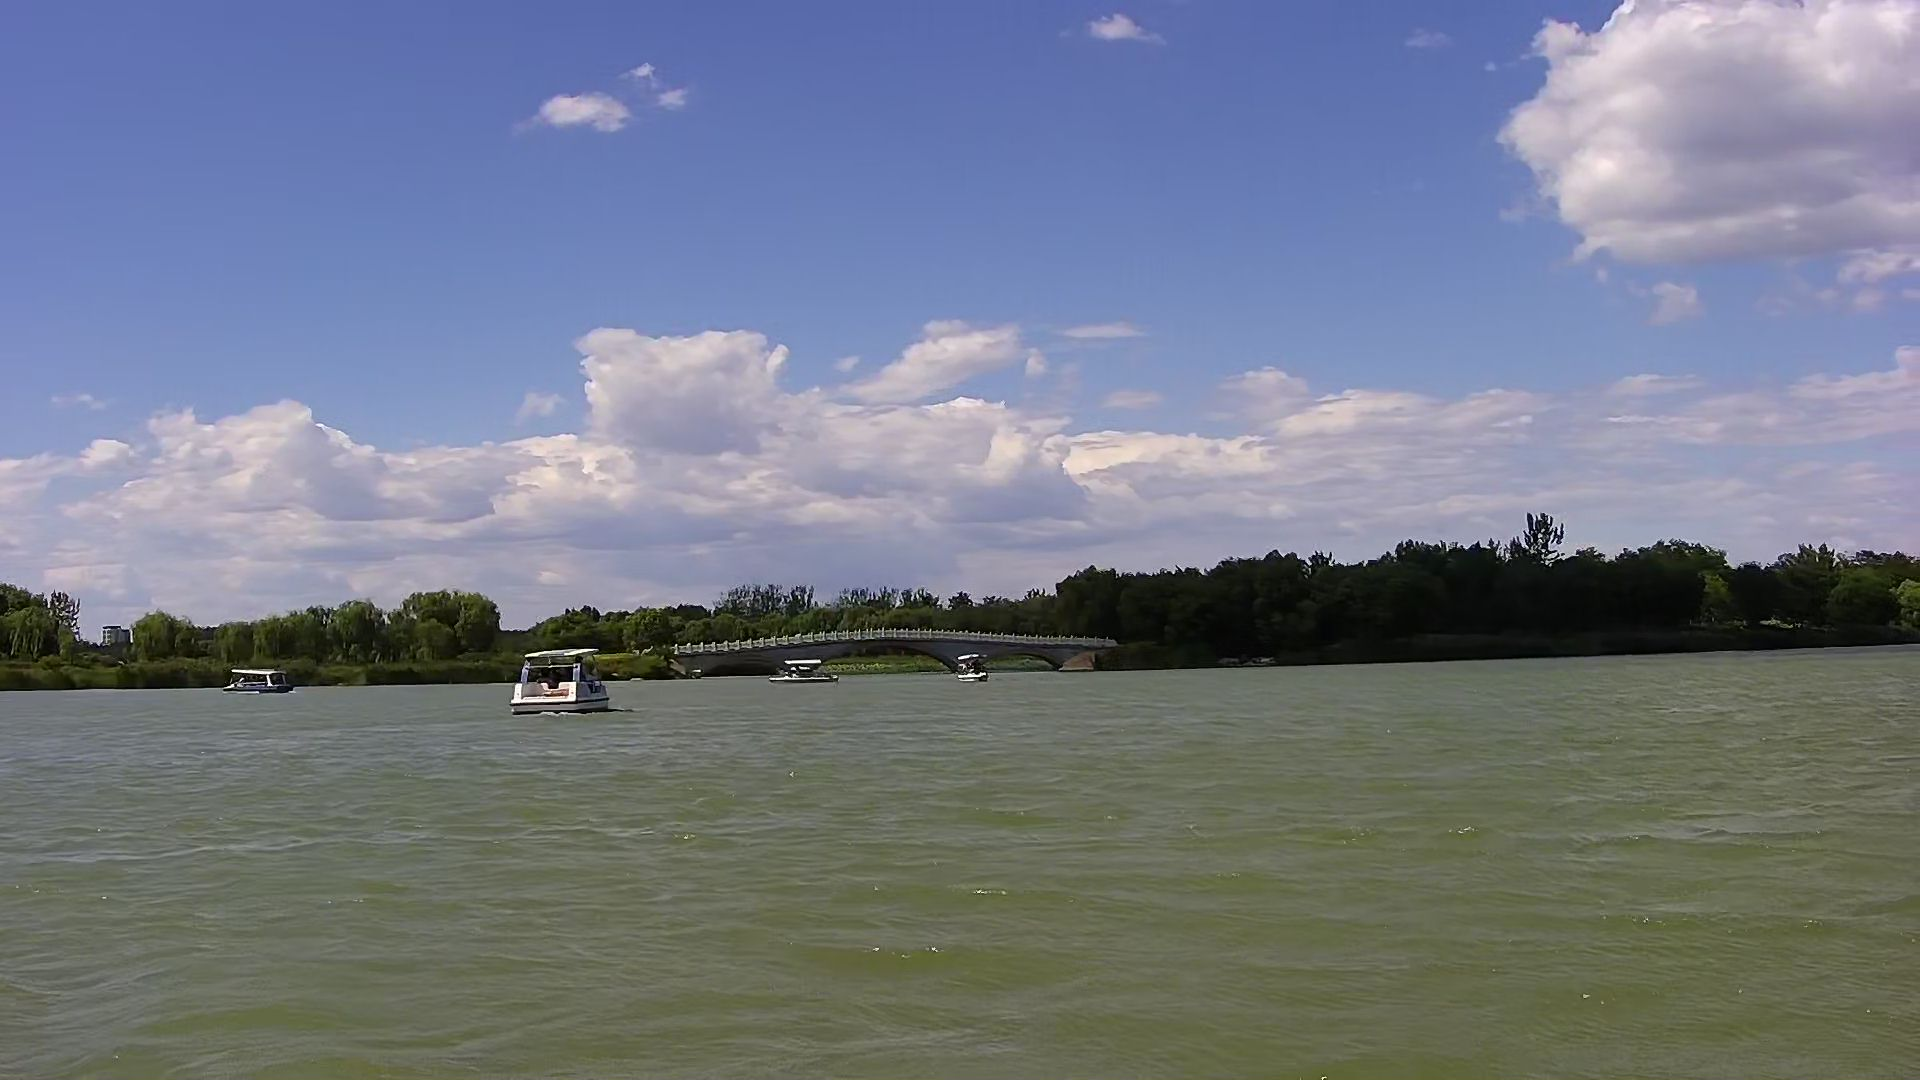boat: (495, 634, 625, 720), (753, 658, 843, 694), (214, 659, 306, 694)
bridge: (669, 624, 1102, 674)
